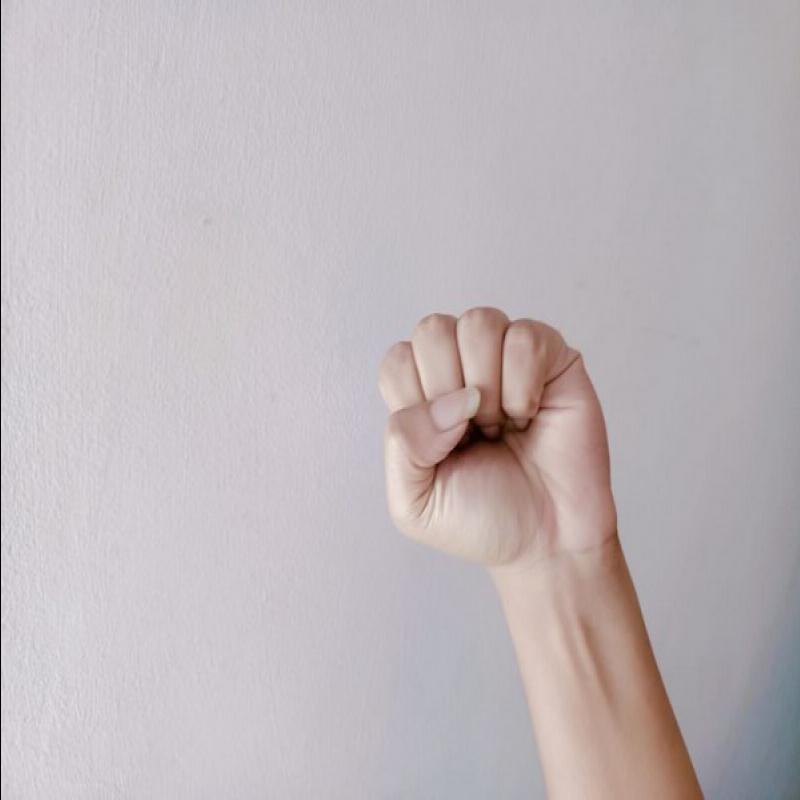Mushti: (339, 301, 635, 584)
